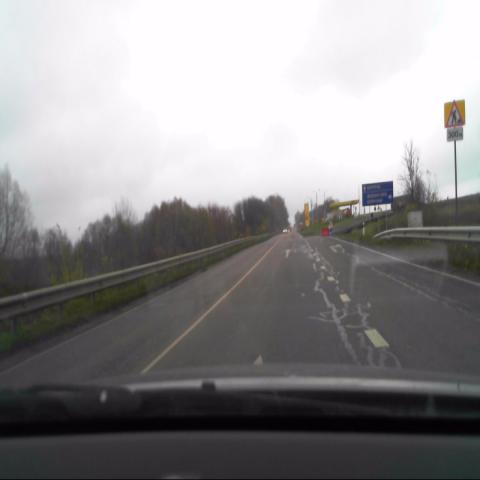1_25: (444, 100, 465, 126)
8_1_1: (446, 127, 463, 141)
